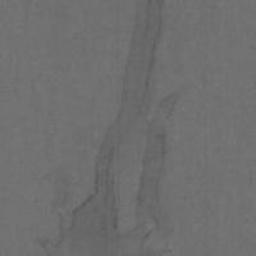Water spot: (27, 0, 184, 256)
